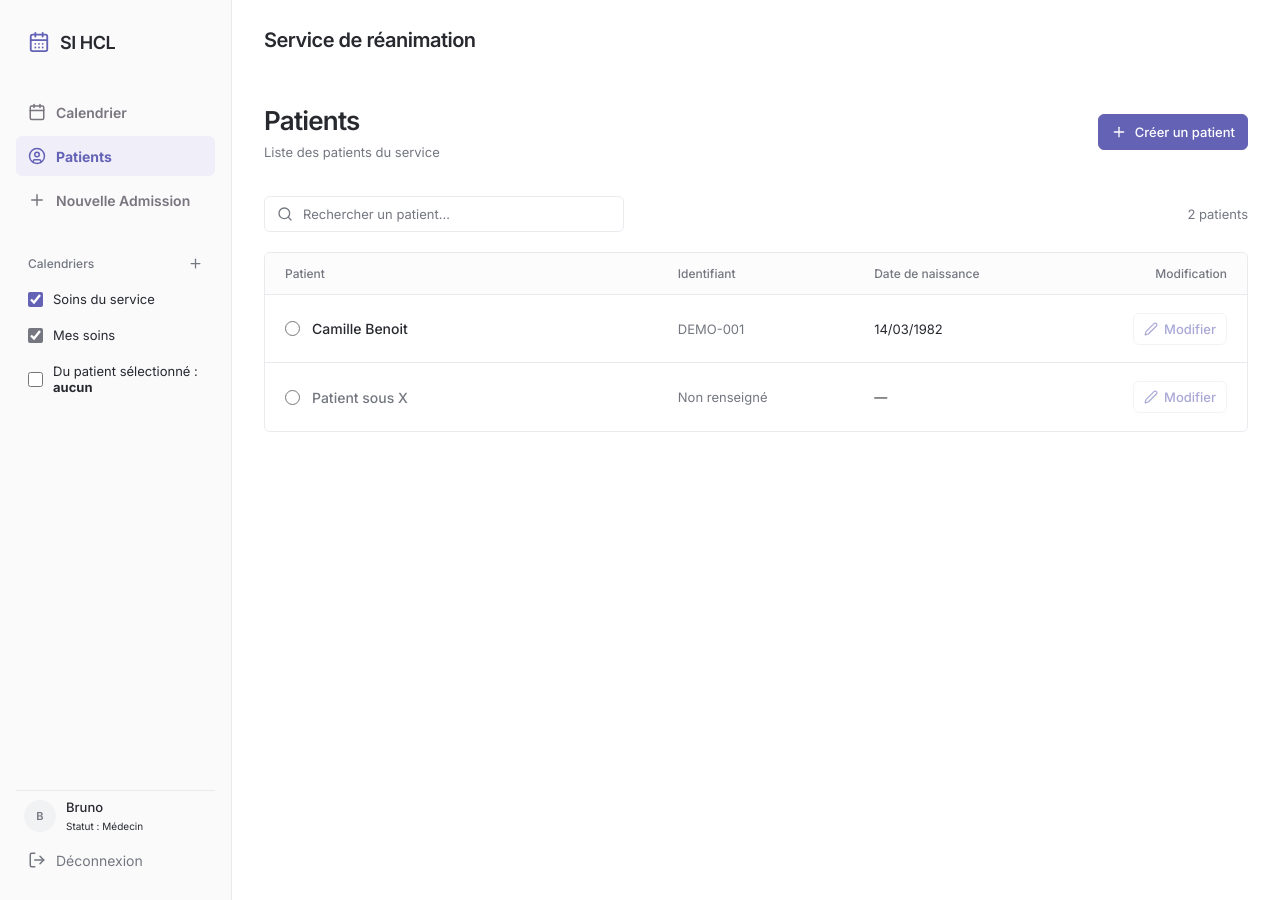
Test: opens the create form from the list
This screenshot has width=1280, height=900.
Click the button with class "btn-create" at (1173, 132), box top-left (1098, 114), bottom-right (1248, 150)
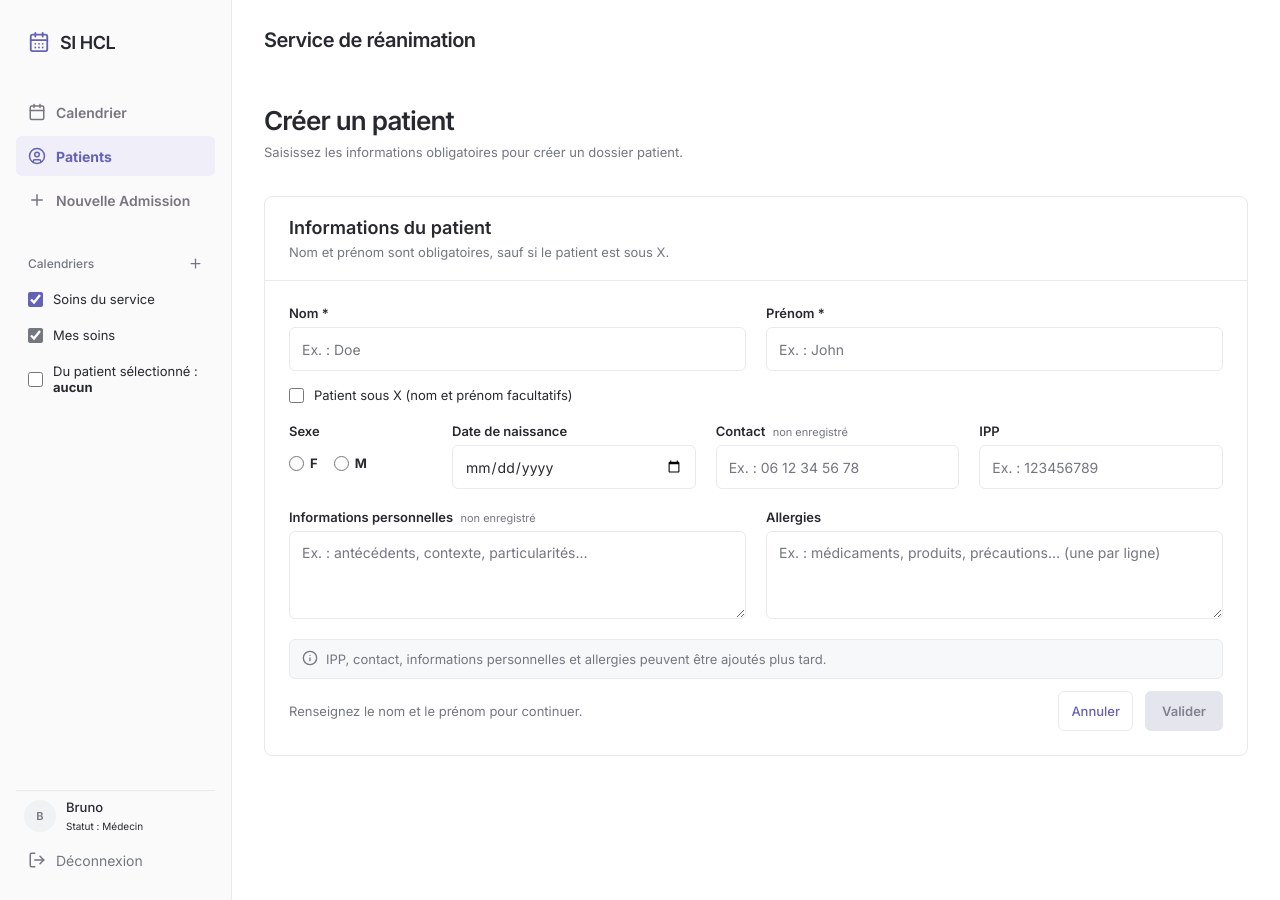
Check: the heading "Créer un patient" is shown, box top-left (264, 104), bottom-right (454, 136)
